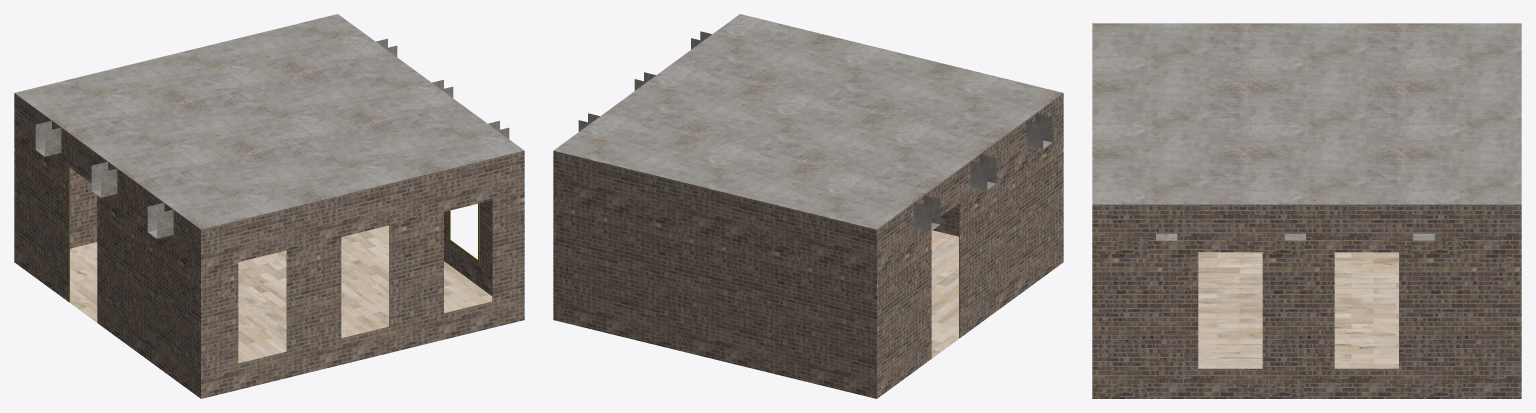
File: In Class Room Export.fbx
3 renders of one model, left to right at view 1: azimuth 30°, elevation 25°; view 2: azimuth 150°, elevation 25°; view 3: azimuth 270°, elevation 25°, orthographic. The views are drawn at different scales.
Parts seen in each view (by area): view 1: Brick Wall, Concrete_2, Floor_2, Door Frame_2; view 2: Brick Wall, Concrete_2, Floor_2; view 3: Concrete_2, Brick Wall, Floor_2.
Part boxes in pixels (x1,y1,x2,y2): Brick Wall: (14,93,524,398); Concrete_2: (15,14,524,238); Floor_2: (69,225,492,363); Door Frame_2: (69,167,492,363); Brick Wall: (553,93,1063,398); Concrete_2: (553,14,1062,231); Floor_2: (931,230,959,358); Concrete_2: (1092,23,1521,240); Brick Wall: (1092,204,1521,398); Floor_2: (1198,252,1398,368).
Bounding box in the file's own units: 6639 × 6096 × 3048.
Materials: 4 (3 with a texture image).
